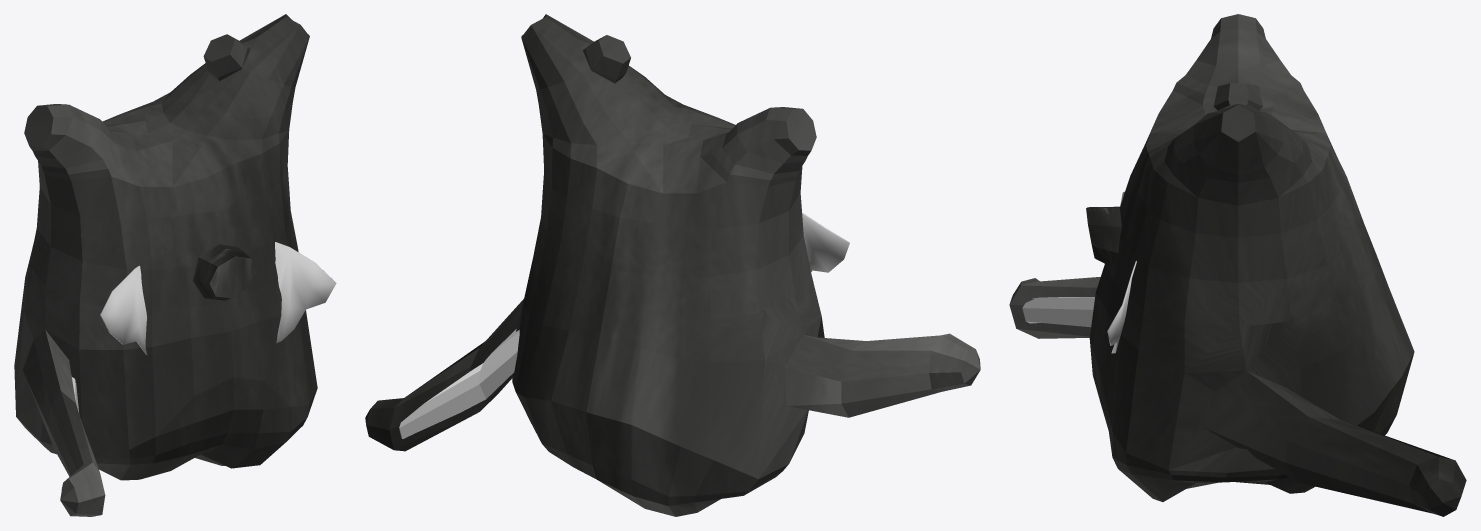
Rendered from frame_0074.obj.
The picture shows the model from 3 angles, left to right: view 1: azimuth 30°, elevation 25°; view 2: azimuth 150°, elevation 25°; view 3: azimuth 270°, elevation 25°; orthographic projection. The views are drawn at different scales.
Parts seen in each view (by area): view 1: korok, leaf, nose; view 2: korok, leaf; view 3: korok, nose, leaf.
Part boxes in pixels (left/top/right/bottom): korok: left=14, top=14, right=317, bottom=516; leaf: left=100, top=242, right=336, bottom=355; nose: left=192, top=244, right=255, bottom=300; korok: left=365, top=14, right=980, bottom=516; leaf: left=802, top=212, right=849, bottom=272; korok: left=1009, top=14, right=1466, bottom=516; nose: left=1086, top=206, right=1121, bottom=266; leaf: left=1107, top=191, right=1136, bottom=353.
Bounding box in the file's own units: 1.78 × 1.73 × 1.65.
